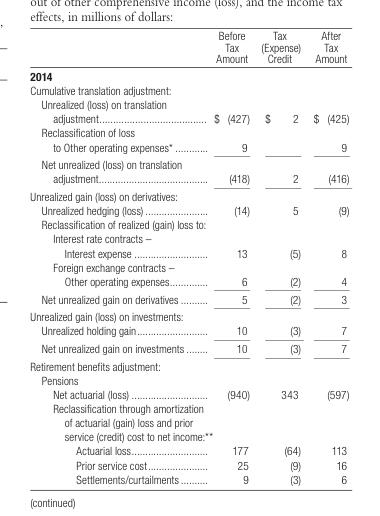table: (29, 28, 348, 484)
table column: (29, 28, 198, 484), (198, 28, 254, 484), (254, 28, 306, 484), (306, 28, 348, 484)
table column header: (29, 28, 348, 67)
table projected row header: (29, 401, 348, 443), (29, 67, 348, 83), (29, 187, 348, 203), (29, 307, 348, 323), (29, 357, 348, 373), (29, 83, 348, 97), (29, 217, 348, 231), (29, 373, 348, 387)
table row: (29, 401, 348, 443), (29, 28, 348, 67), (29, 155, 348, 187), (29, 125, 348, 155), (29, 259, 348, 289), (29, 97, 348, 125), (29, 231, 348, 259), (29, 289, 348, 307), (29, 339, 348, 357), (29, 67, 348, 83), (29, 187, 348, 203), (29, 307, 348, 323), (29, 323, 348, 339), (29, 357, 348, 373), (29, 83, 348, 97), (29, 203, 348, 217), (29, 217, 348, 231), (29, 373, 348, 387), (29, 387, 348, 401), (29, 443, 348, 457), (29, 457, 348, 471), (29, 471, 348, 484)
